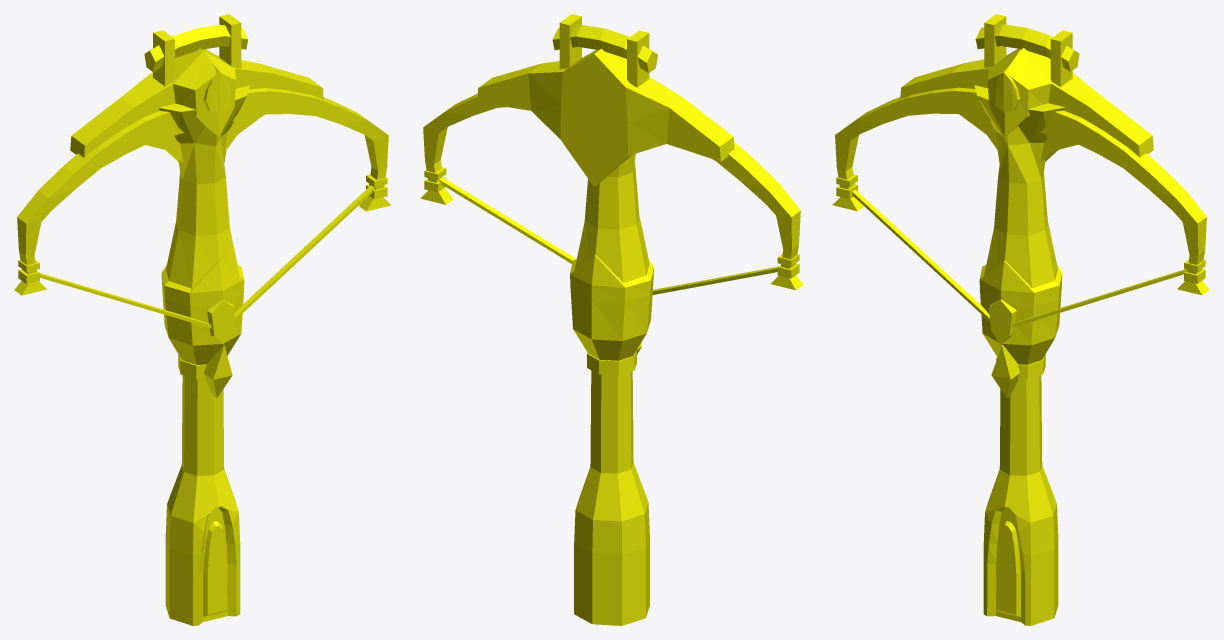
The model's file is _crossbow_4.glb.
The picture shows the model from 3 angles, left to right: view 1: azimuth 30°, elevation 25°; view 2: azimuth 150°, elevation 25°; view 3: azimuth 330°, elevation 25°; orthographic projection.
Visible parts, largest first — view 1: crossbow_4; view 2: crossbow_4; view 3: crossbow_4.
Boxes of the visible parts, <box> form: crossbow_4: <box>14,14,391,625</box>; crossbow_4: <box>420,14,803,625</box>; crossbow_4: <box>832,14,1209,625</box>.
Bounding box in the file's own units: 0.5965 × 0.8898 × 0.1127.
1 material, 1 textured.
